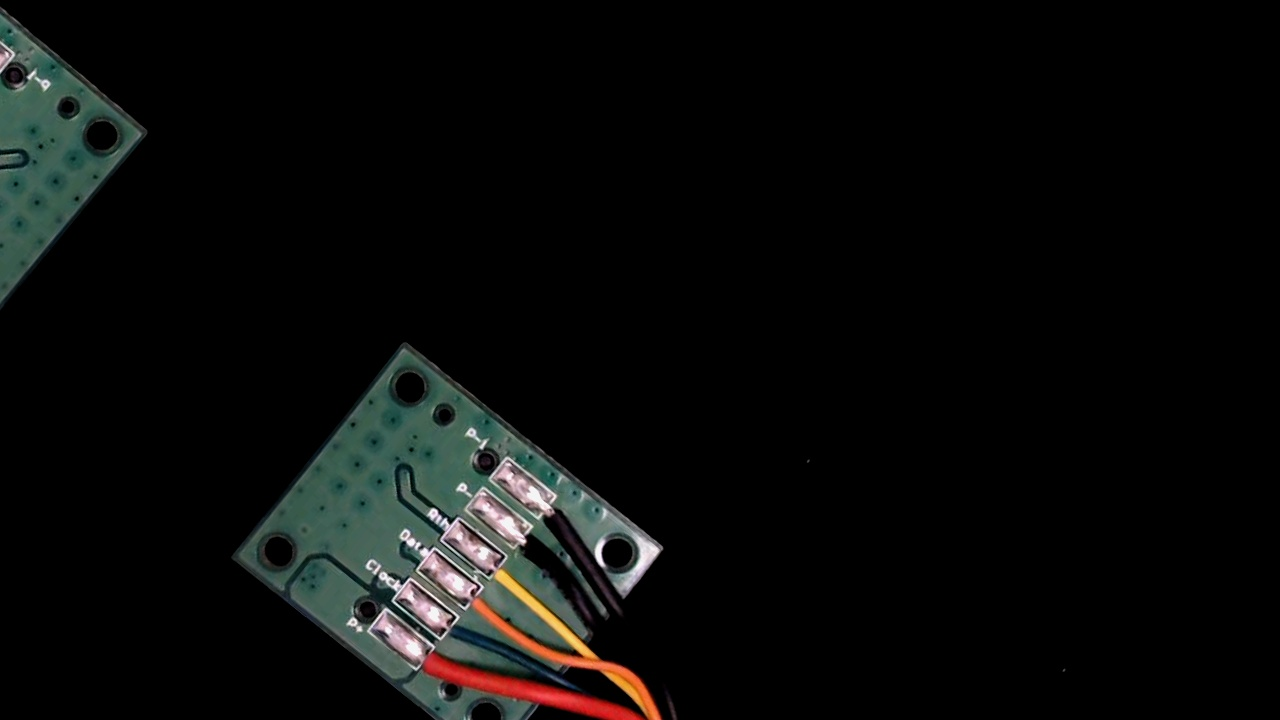Black: (499, 516, 569, 581)
Black1: (525, 482, 598, 550)
Green: (422, 603, 490, 667)
Orange: (448, 575, 515, 637)
Red: (397, 632, 473, 703)
Yellow: (475, 546, 545, 611)
